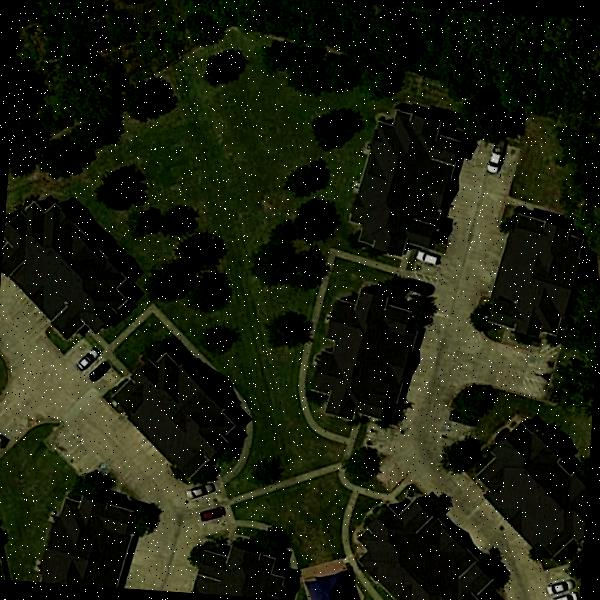Buildings: (310, 293, 428, 423), (354, 107, 458, 252), (0, 213, 121, 328), (482, 427, 590, 553), (110, 371, 247, 466), (354, 503, 485, 600), (494, 221, 590, 338), (24, 496, 142, 590), (194, 546, 291, 600), (308, 573, 350, 600)
